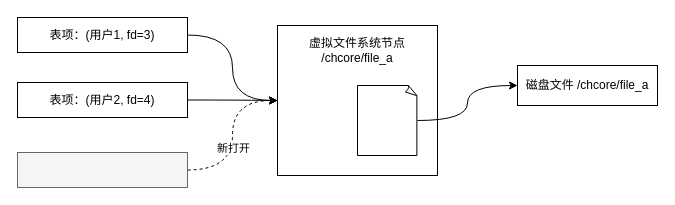
This 675x205 diagram has some shape labels left out. Here are the shapes that lost their labels. From the top down, the centre of each, then its label:
At pixel 387 120: "文件副本".
At pixel 102 170: "表项：(用户1, fd=4)".
